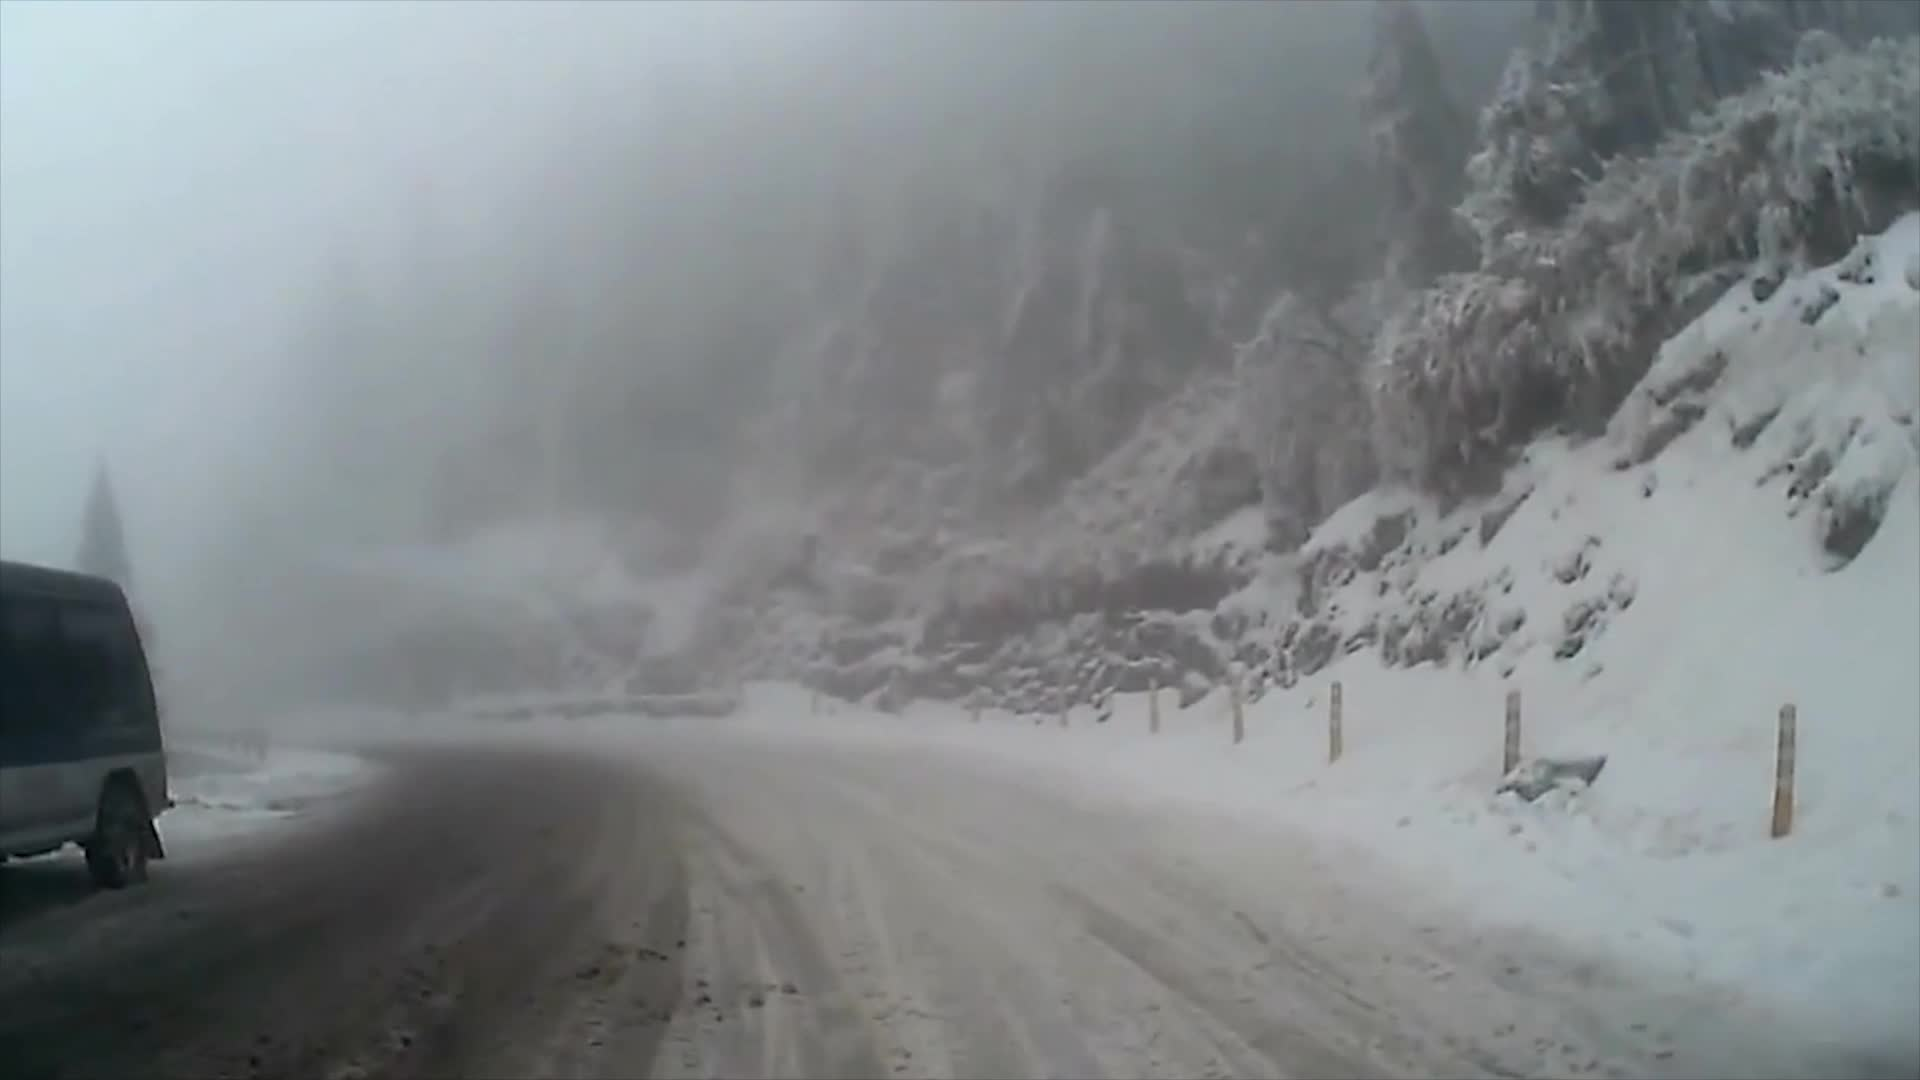vehicle: (0, 558, 175, 910)
